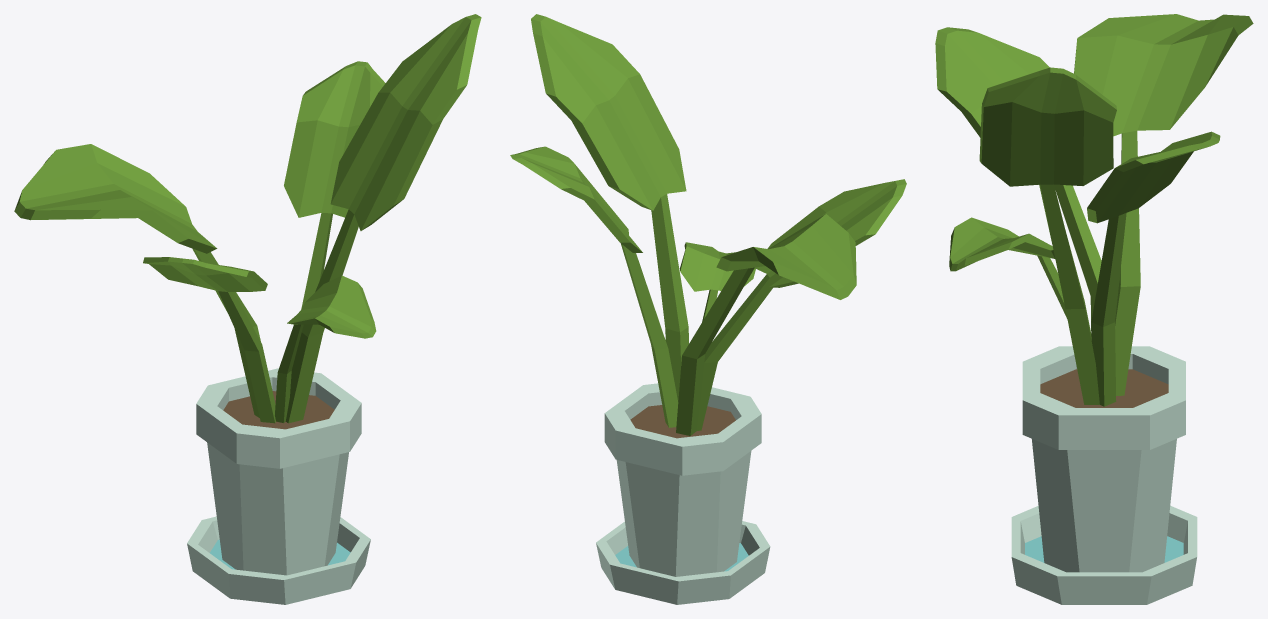
The model's file is plant.fbx.
The picture shows the model from 3 angles, left to right: view 1: azimuth 30°, elevation 25°; view 2: azimuth 150°, elevation 25°; view 3: azimuth 270°, elevation 25°; orthographic projection. The views are drawn at different scales.
Visible parts, largest first — view 1: plant, pot, underpot; view 2: plant, pot, underpot; view 3: plant, pot, underpot.
Part boxes in pixels (x1=…): plant: x1=14, y1=14, x2=481, y2=423; pot: x1=196, y1=368, x2=361, y2=575; underpot: x1=187, y1=516, x2=370, y2=604; plant: x1=510, y1=14, x2=906, y2=435; pot: x1=604, y1=383, x2=761, y2=576; underpot: x1=596, y1=521, x2=770, y2=604; plant: x1=935, y1=14, x2=1253, y2=406; pot: x1=1022, y1=346, x2=1185, y2=572; underpot: x1=1011, y1=505, x2=1197, y2=604.
Size of the model in its own units: 1.35 by 1.72 by 0.8336.
